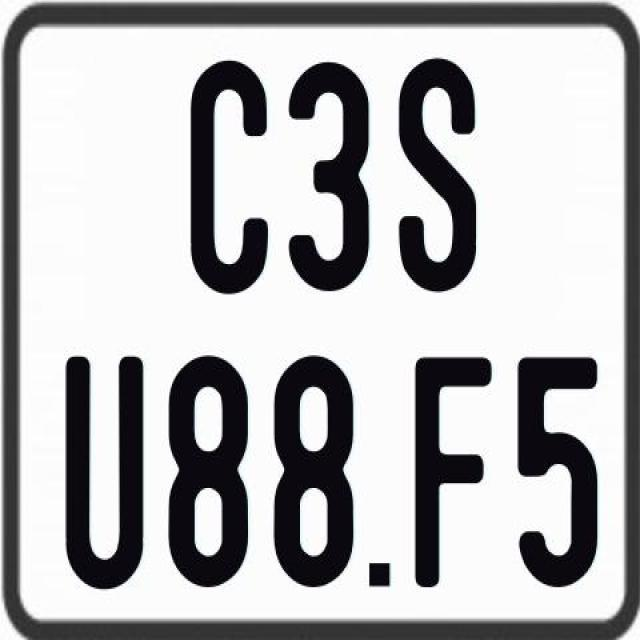3: (287, 62, 372, 298)
5: (518, 355, 602, 586)
8: (165, 351, 254, 588), (270, 353, 350, 592)
C: (188, 59, 266, 296)
F: (413, 353, 491, 584)
S: (397, 55, 483, 292)
U: (62, 353, 142, 588)
